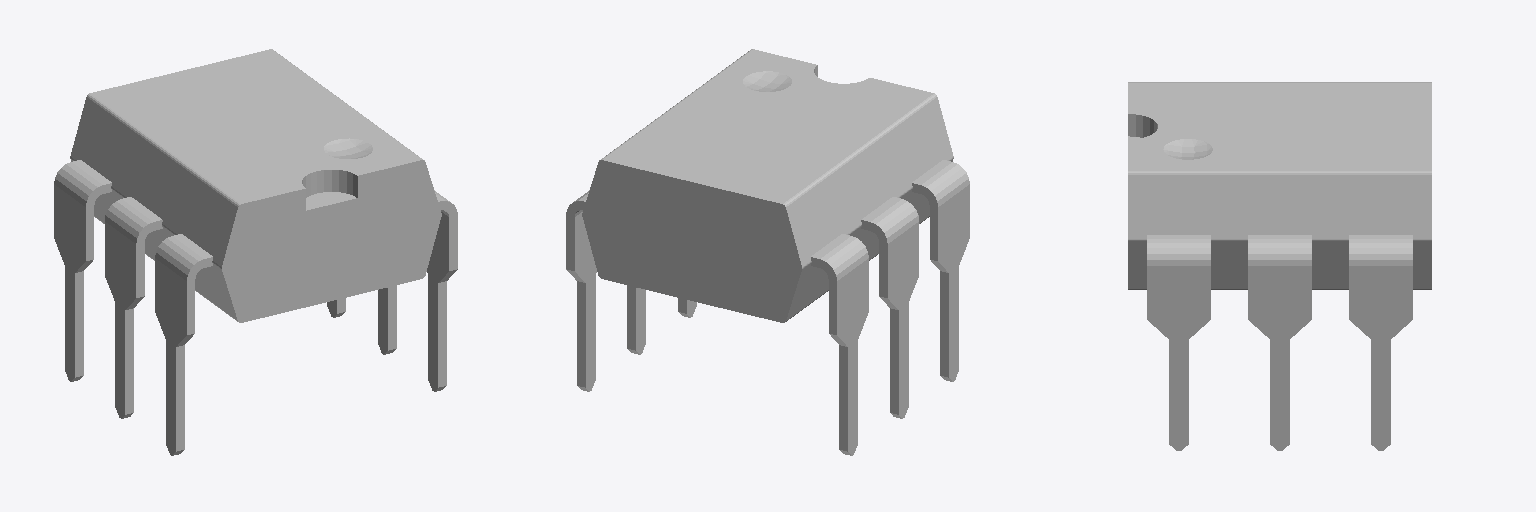
3 views of the same model, side by side, from view 1: azimuth 30°, elevation 25°; view 2: azimuth 150°, elevation 25°; view 3: azimuth 270°, elevation 25° (orthographic).
Parts seen in each view (by area): view 1: Volumenkörper1; view 2: Volumenkörper1; view 3: Volumenkörper1.
Boxes of the visible parts, <box> form: Volumenkörper1: <box>54,49,457,455</box>; Volumenkörper1: <box>566,49,969,455</box>; Volumenkörper1: <box>1128,82,1431,450</box>.
Bounding box in the file's own units: 7.87 × 7.17 × 7.62.